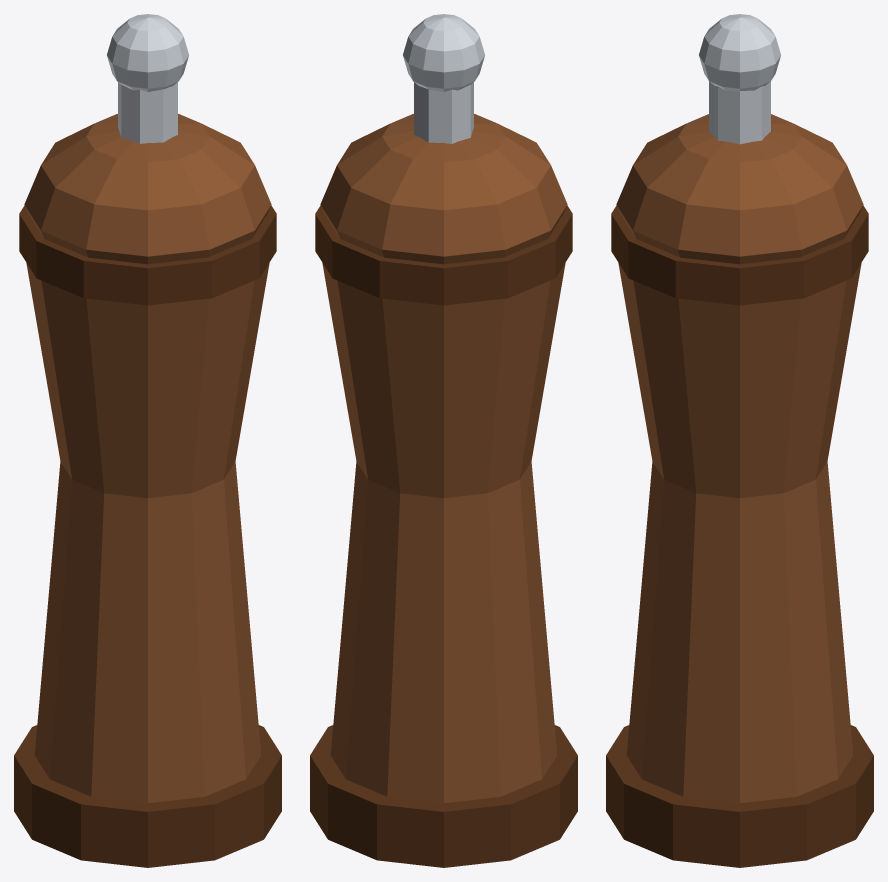
Rendered from PepperMill.glb.
The picture shows the model from 3 angles, left to right: view 1: azimuth 30°, elevation 25°; view 2: azimuth 150°, elevation 25°; view 3: azimuth 270°, elevation 25°; orthographic projection.
Parts seen in each view (by area): view 1: PepperMill; view 2: PepperMill; view 3: PepperMill.
Boxes of the visible parts, bbox=[...] form: PepperMill: bbox=[14, 14, 281, 867]; PepperMill: bbox=[310, 14, 577, 867]; PepperMill: bbox=[606, 14, 873, 867].
Bounding box in the file's own units: 0.052 × 0.17 × 0.052.
